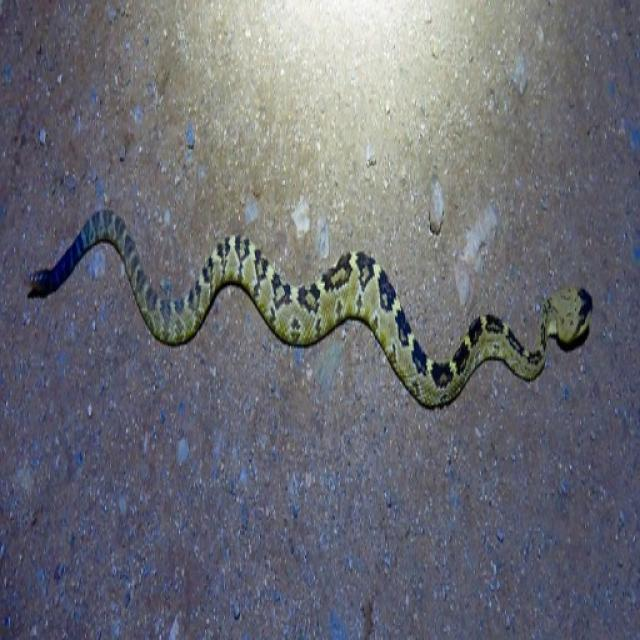snake: (25, 167, 622, 420)
